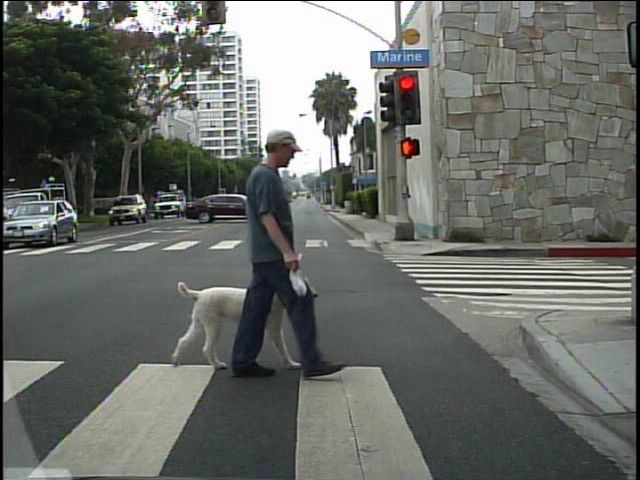person: (212, 119, 345, 386)
